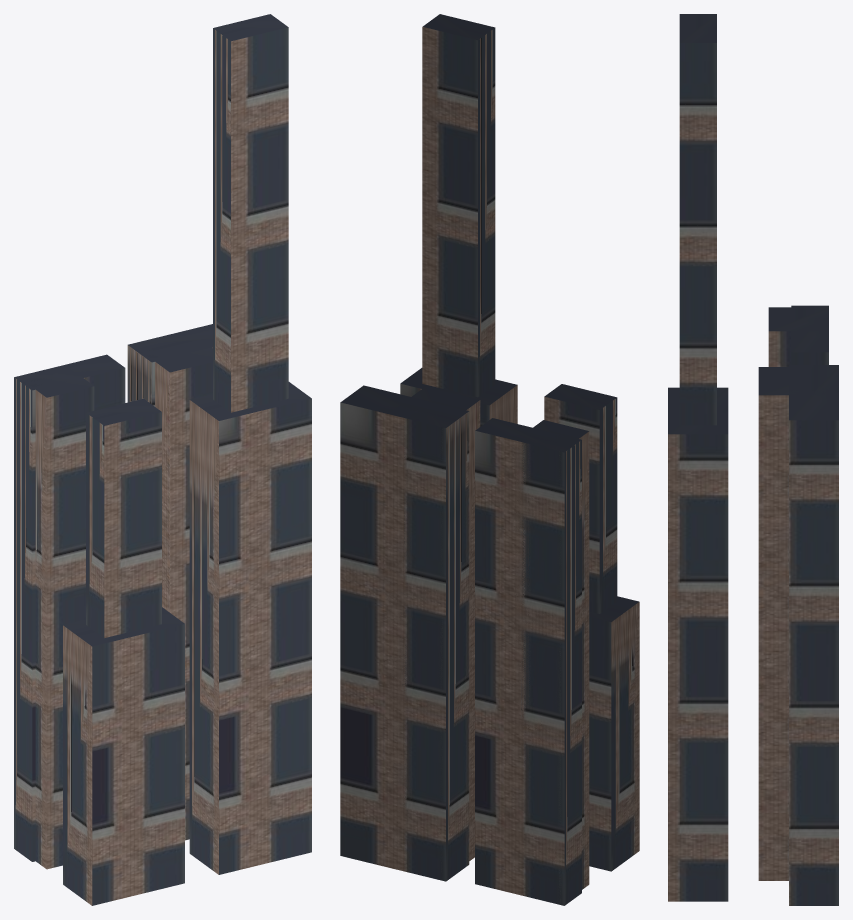
The model's file is city_block_12345_6_11.glb.
The picture shows the model from 3 angles, left to right: view 1: azimuth 30°, elevation 25°; view 2: azimuth 150°, elevation 25°; view 3: azimuth 270°, elevation 25°; orthographic projection. The views are drawn at different scales.
Visible parts, largest first — view 1: block_11; view 2: block_11; view 3: block_11.
Boxes of the visible parts, <box> form: block_11: <box>14,14,311,905</box>; block_11: <box>340,14,639,905</box>; block_11: <box>668,14,838,905</box>.
Size of the model in its own units: 4.05 by 14 by 2.55.
4 materials, 4 textured.
